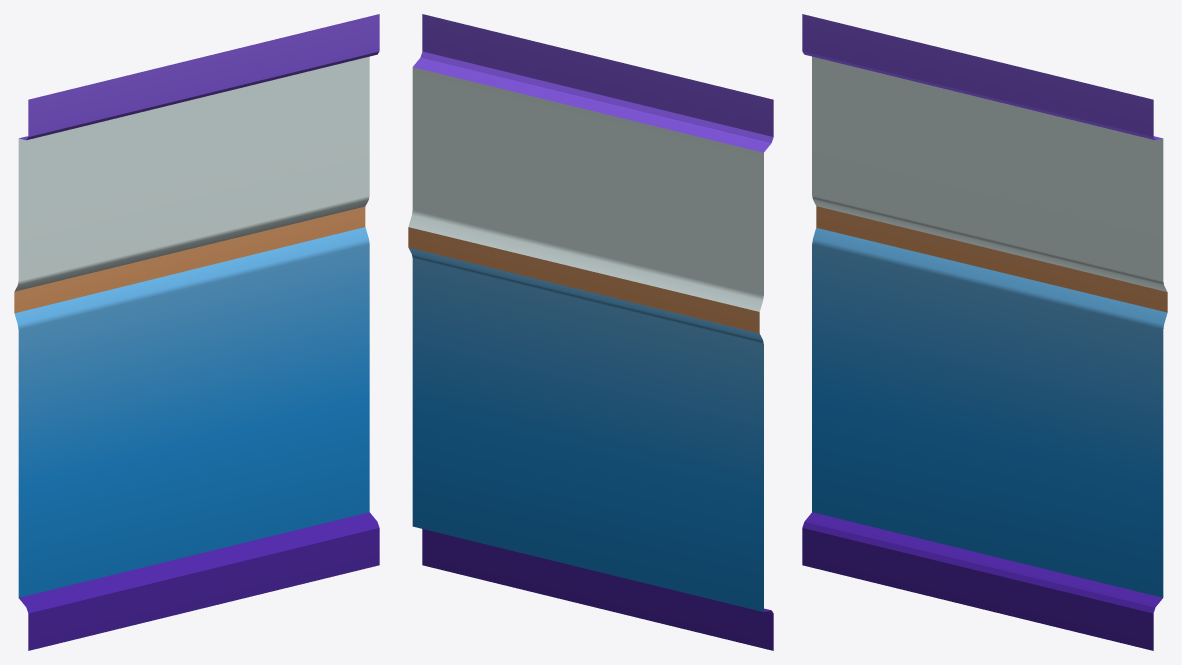
Rendered from SM_Factory_Wall_01.fbx.
3 views of the same model, side by side, from view 1: azimuth 30°, elevation 25°; view 2: azimuth 150°, elevation 25°; view 3: azimuth 330°, elevation 25° (orthographic).
Parts seen in each view (by area): view 1: polySurface7; view 2: polySurface7; view 3: polySurface7.
Part boxes in pixels (box(x1,y1,x2,y2)): polySurface7: box(14, 14, 379, 650); polySurface7: box(408, 14, 773, 650); polySurface7: box(802, 14, 1167, 650).
Size of the model in its own units: 200 by 13.87 by 300.
